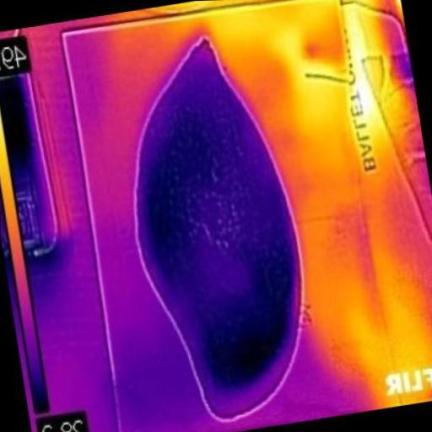mango: (135, 38, 301, 418)
